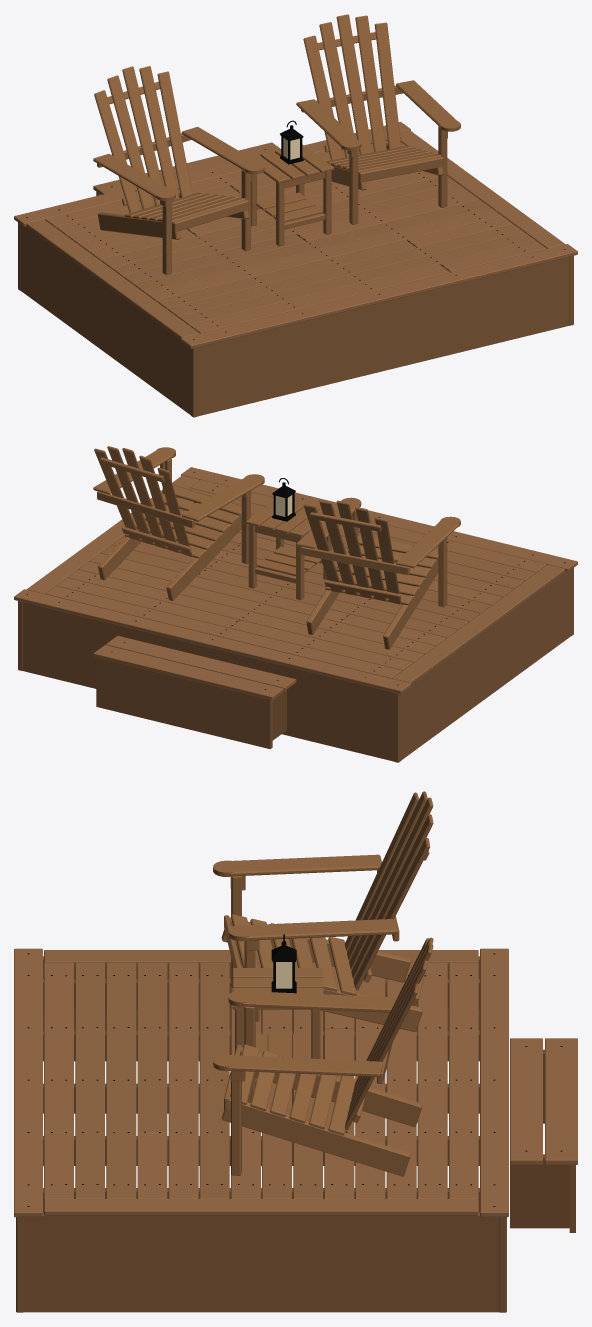
Rendered from deck.glb.
3 views of the same model, one above another, from view 1: azimuth 30°, elevation 25°; view 2: azimuth 150°, elevation 25°; view 3: azimuth 270°, elevation 25° (orthographic). The views are drawn at different scales.
Parts seen in each view (by area): view 1: deck_wood, deck_metal_black; view 2: deck_wood, deck_metal_black; view 3: deck_wood, deck_metal_black.
Boxes of the visible parts, x1,y1,x2,y2 form: deck_wood: (14,14,577,417); deck_metal_black: (26,120,565,339); deck_wood: (14,446,577,762); deck_metal_black: (26,472,565,689); deck_wood: (14,791,577,1312); deck_metal_black: (27,934,562,1206).
Size of what is drawn, in the model's own units: 3.03 by 1.65 by 2.74.
